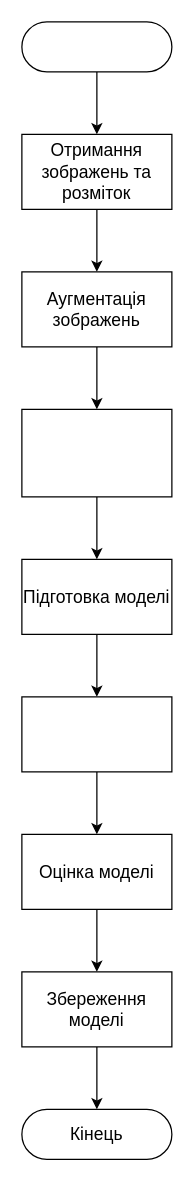
This 194x1181 diagram has some shape labels left out. The centre of each missing label's shape, as x and y in pixels:
Навчання мережі: (96,734)
Початок: (96,46)
Розбитя на навчальну та валідаційну вибірки: (96,452)
